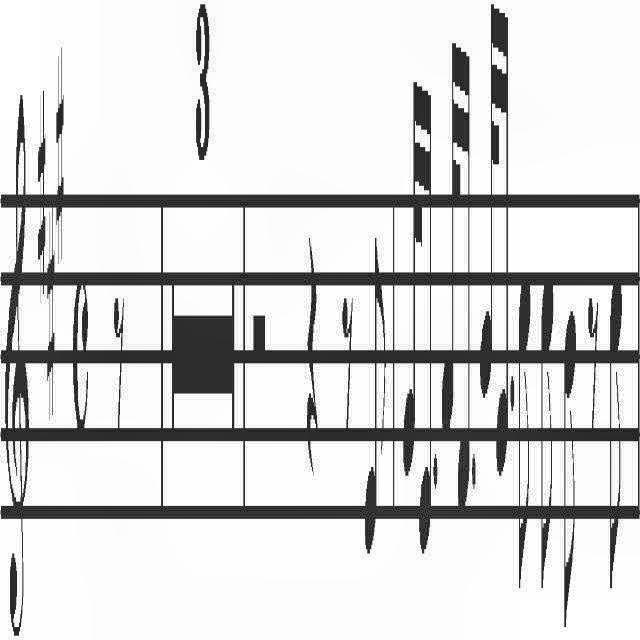Bass-clef: (0, 28, 32, 640)
Diez: (34, 67, 46, 296), (54, 67, 66, 265), (46, 217, 56, 419)
Eighth-note: (362, 233, 386, 572), (606, 262, 626, 586), (539, 262, 557, 594), (562, 294, 578, 640), (518, 267, 532, 569)
Eighth-rest: (340, 262, 354, 458), (113, 266, 127, 454), (588, 262, 600, 446)
Quarter-rest: (305, 203, 319, 522)
Sixteenth-note: (420, 75, 432, 573), (496, 15, 508, 485), (458, 29, 469, 525)
